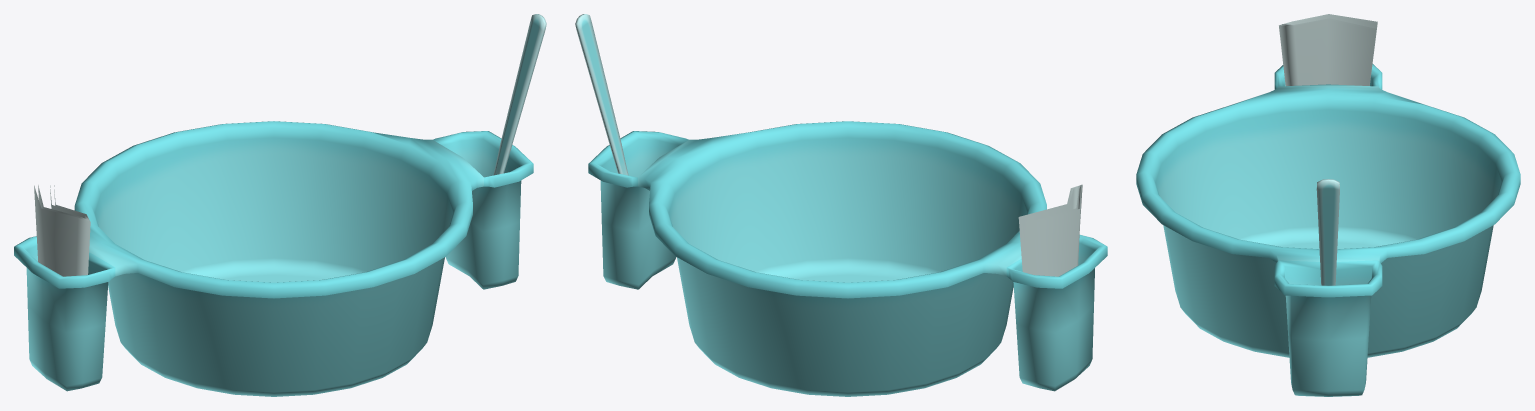
Rendered from dessert_cup_0.fbx.
3 renders of one model, left to right at view 1: azimuth 30°, elevation 25°; view 2: azimuth 150°, elevation 25°; view 3: azimuth 270°, elevation 25°, orthographic. The views are drawn at different scales.
Parts seen in each view (by area): view 1: dessert_pear_cup; view 2: dessert_pear_cup; view 3: dessert_pear_cup.
Boxes of the visible parts, box(x1,y1,x2,y2) form: dessert_pear_cup: box(14, 14, 546, 396); dessert_pear_cup: box(575, 14, 1107, 396); dessert_pear_cup: box(1136, 14, 1520, 396).
Bounding box in the file's own units: 20.97 × 9.91 × 14.2.
